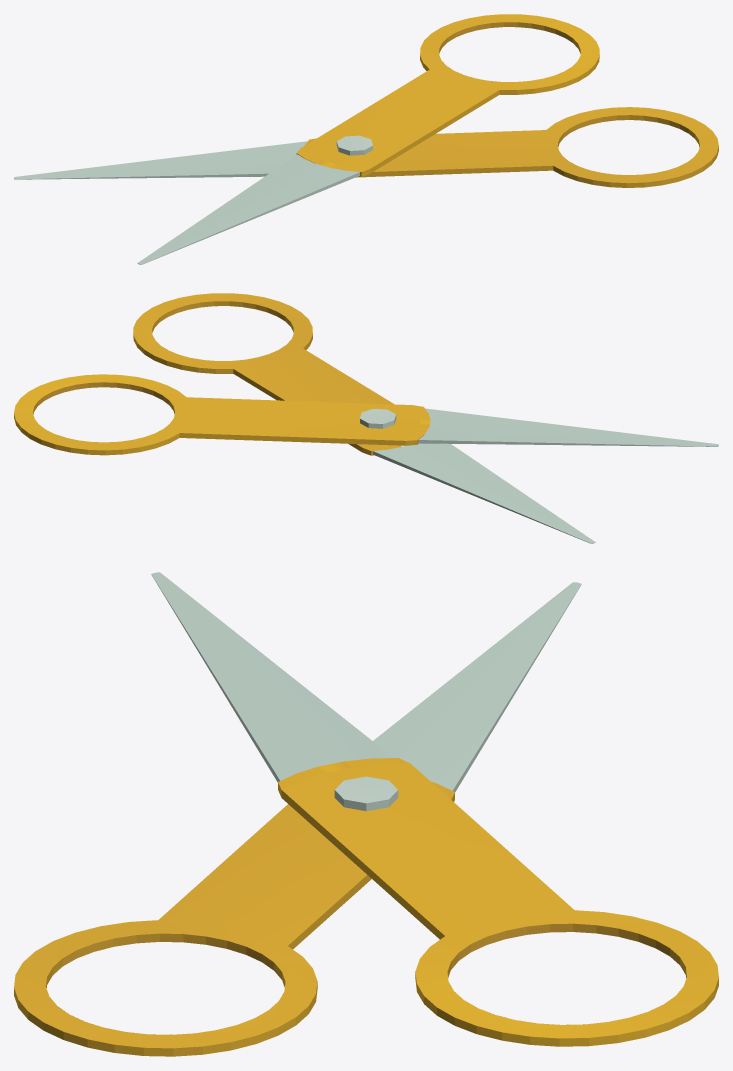
Rendered from Scisors.fbx.
3 views of the same model, one above another, from view 1: azimuth 30°, elevation 25°; view 2: azimuth 150°, elevation 25°; view 3: azimuth 270°, elevation 25° (orthographic). The views are drawn at different scales.
Visible parts, largest first — view 1: Cylinder; view 2: Cylinder; view 3: Cylinder.
Part boxes in pixels (<box>): Cylinder: <box>14,14,718,264</box>; Cylinder: <box>14,293,718,543</box>; Cylinder: <box>14,572,718,1056</box>.
Bounding box in the file's own units: 569 × 20.91 × 360.
